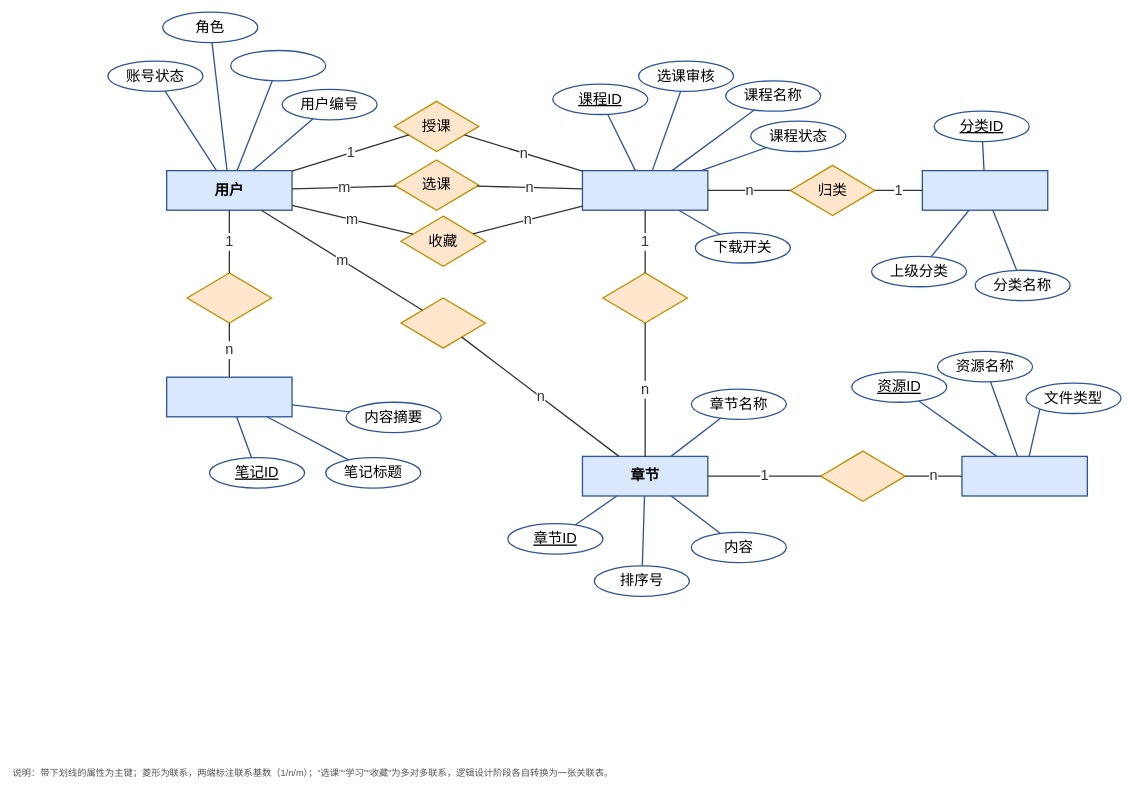
The diagram is 1133 pixels wide and 807 high, and some of its shapes have lost their labels. Here are the shapes that lost their labels. From the top down, the box of each, then its label:
(230, 50, 326, 81): 用户ID
(581, 170, 708, 211): 课程
(921, 170, 1048, 211): 课程分类
(186, 272, 272, 323): 记录
(602, 272, 688, 323): 包含
(400, 297, 486, 348): 学习
(166, 376, 292, 417): 学习笔记
(820, 450, 906, 502): 挂载
(961, 455, 1088, 496): 课件资源
